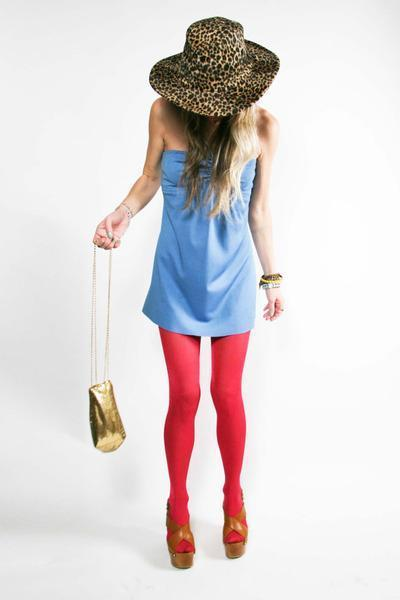bag: (89, 383, 125, 452)
dress: (142, 149, 263, 336)
hat: (149, 17, 279, 117)
shoe: (166, 502, 247, 569)
